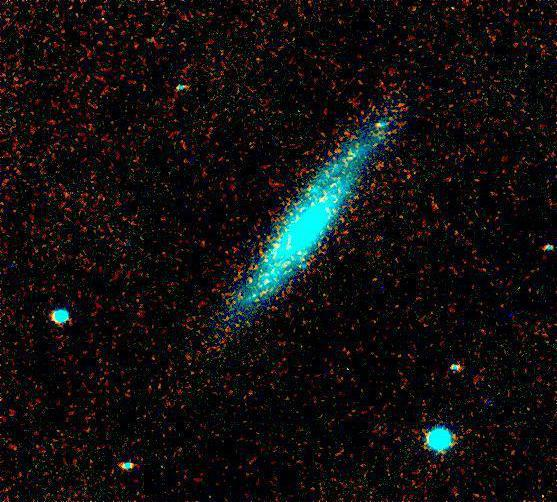star: (365, 154, 395, 184)
